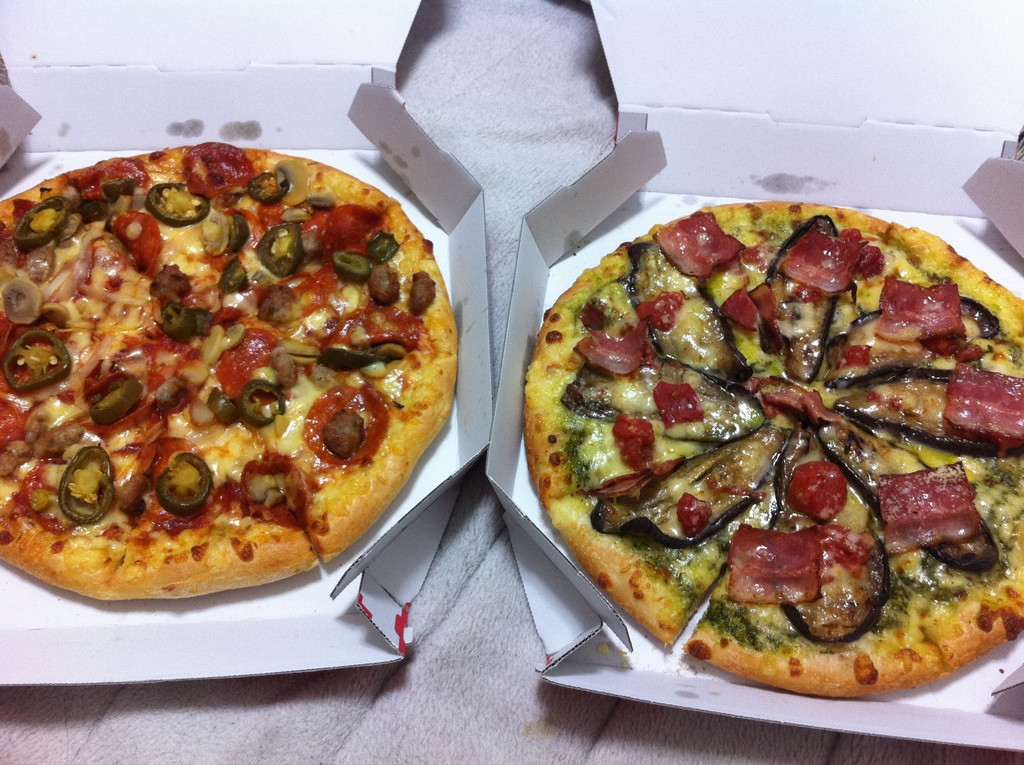Pizza: (521, 199, 1023, 701), (0, 128, 475, 619)
